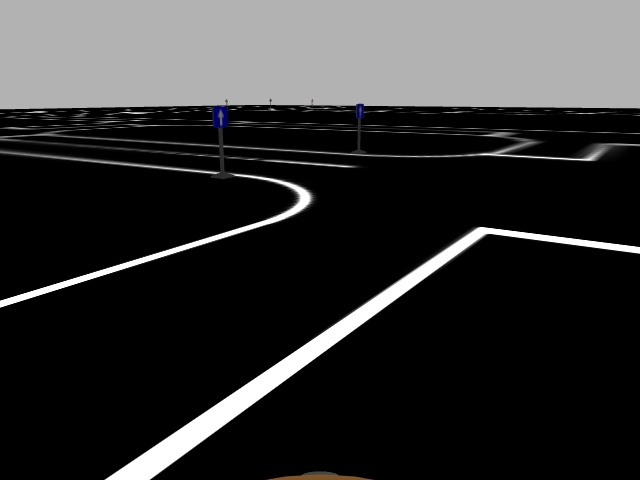oneway: (209, 104, 231, 131)
